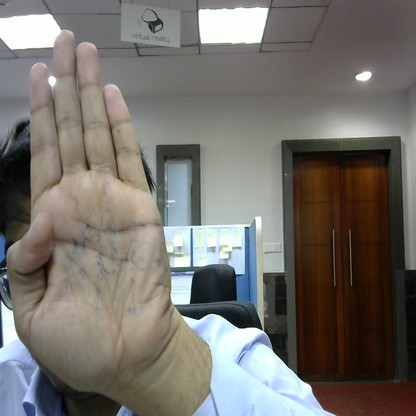b: (7, 28, 183, 392)
